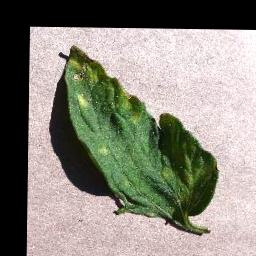Leaf_Mold: (65, 45, 141, 110), (76, 90, 89, 108), (131, 110, 144, 124)
